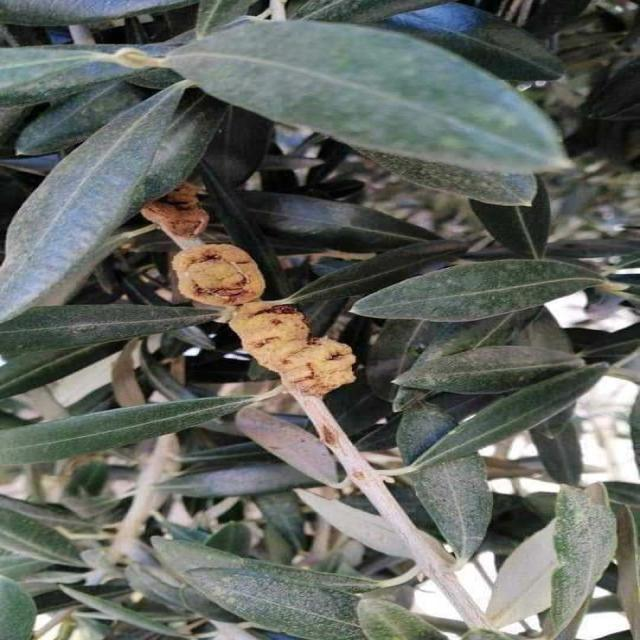Tuberculosis: (228, 302, 356, 396), (171, 244, 263, 308), (140, 183, 208, 246)
